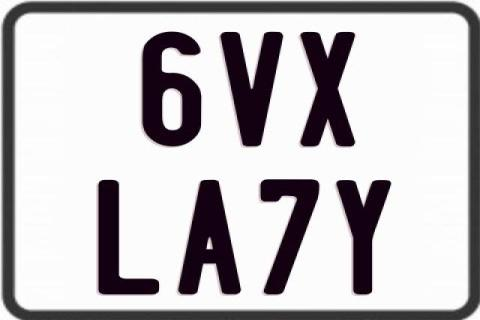0: (260, 179, 325, 295), (141, 31, 203, 148)
A: (176, 177, 244, 297)
L: (96, 180, 158, 295)
V: (218, 30, 286, 146)
X: (297, 30, 357, 148)
Y: (335, 179, 390, 295)
